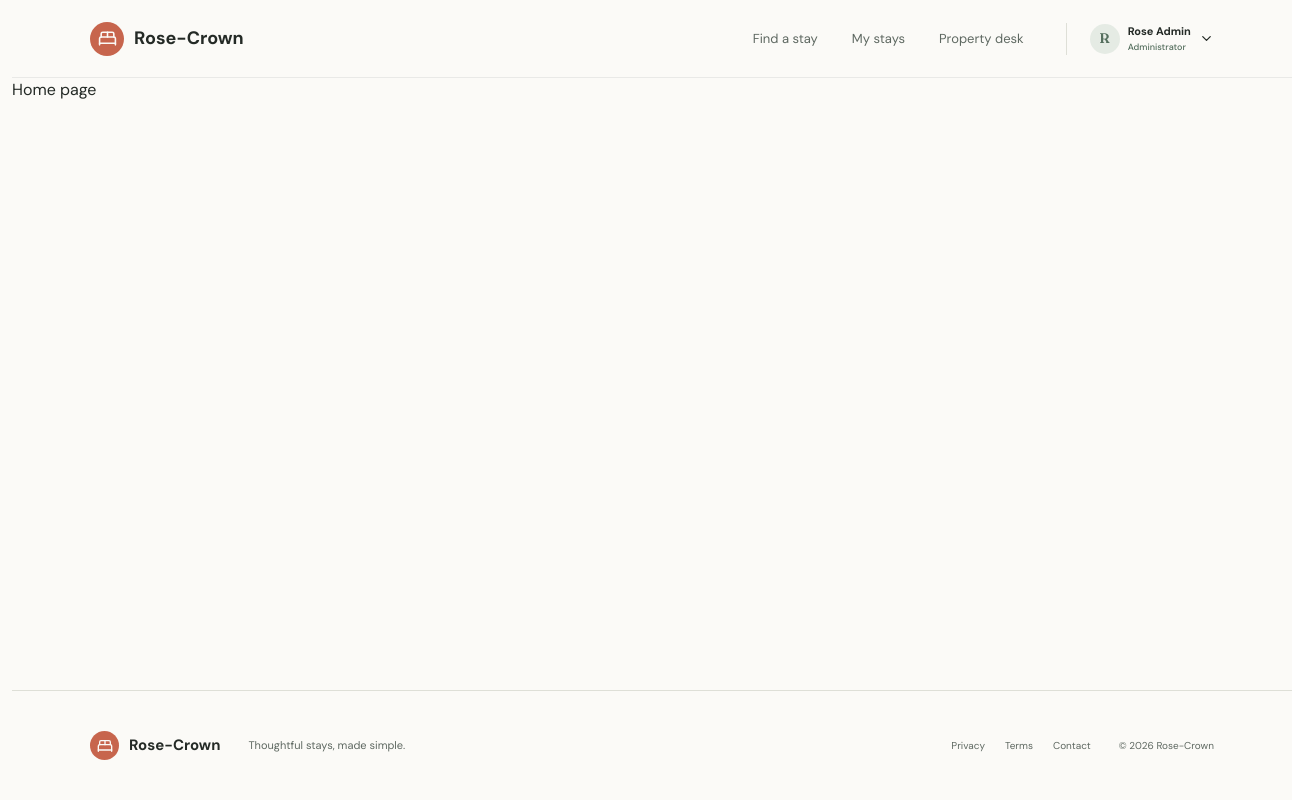
signed-in account menu › shows the signed-in admin and links to profile settings
Check: the text "Administrator" is shown, box [1128,41,1191,54]
Check: the text "Rose Admin" is shown, box [1128,22,1191,39]
Step 1. Click the button with aria-label "Open account menu" → click(1152, 38), box [1090,22,1214,54]
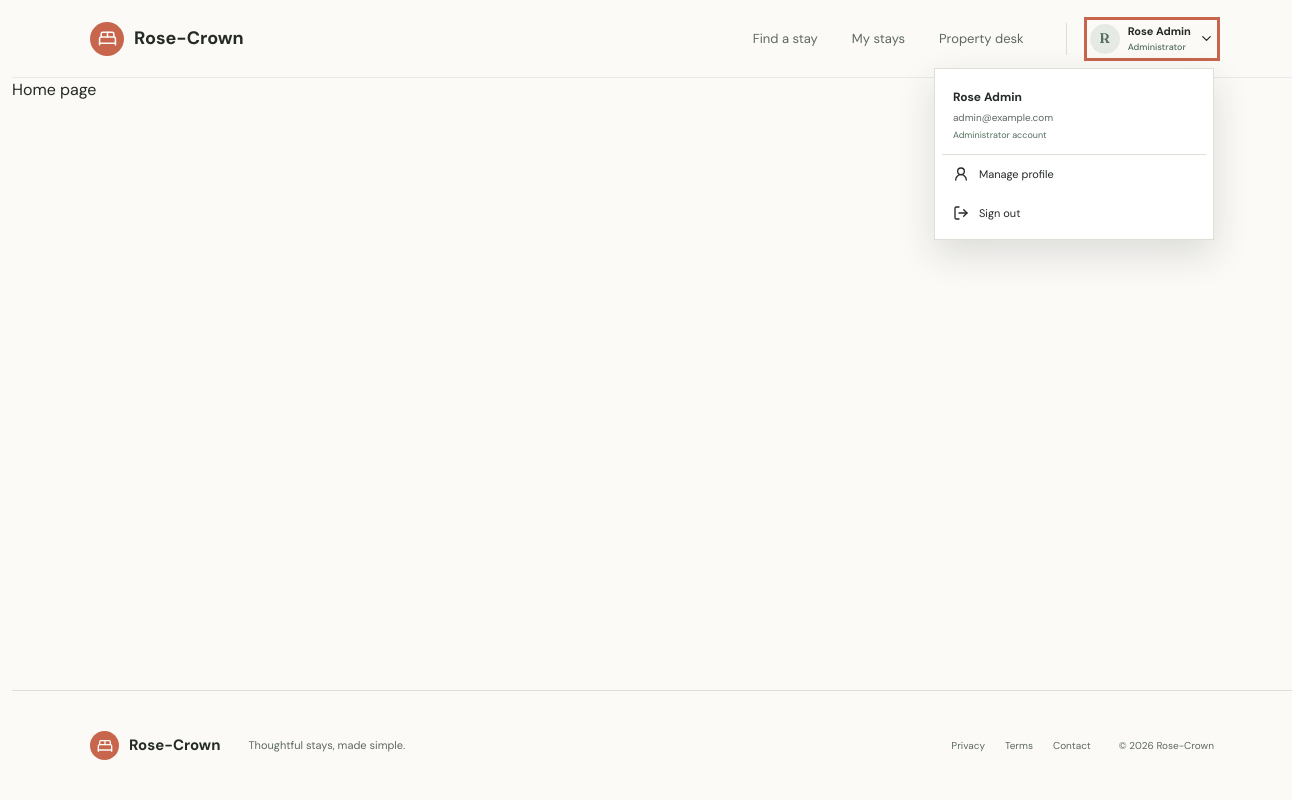
Step 2. Click the menu item "Manage profile" → click(1003, 174), box [953,166,1054,182]
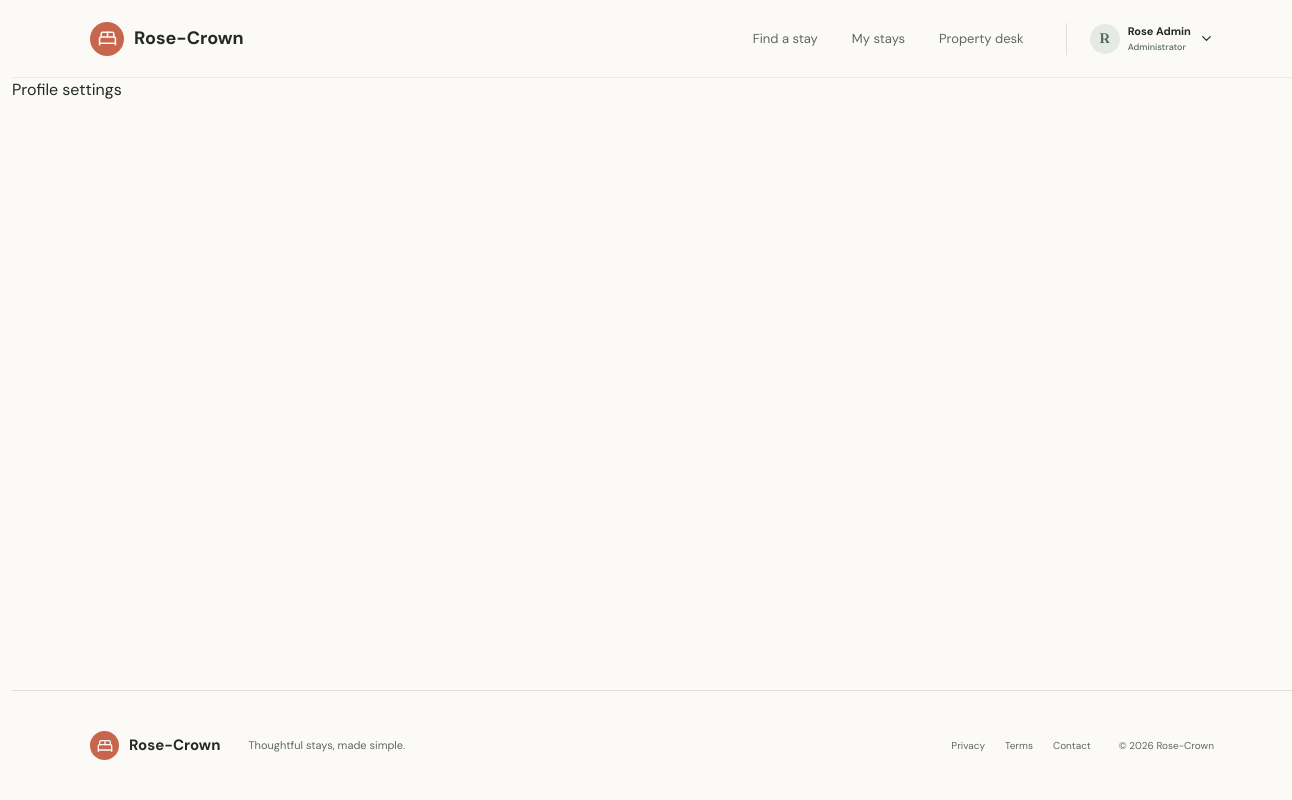
Check: the text "Profile settings" is shown, box [12,79,122,100]
